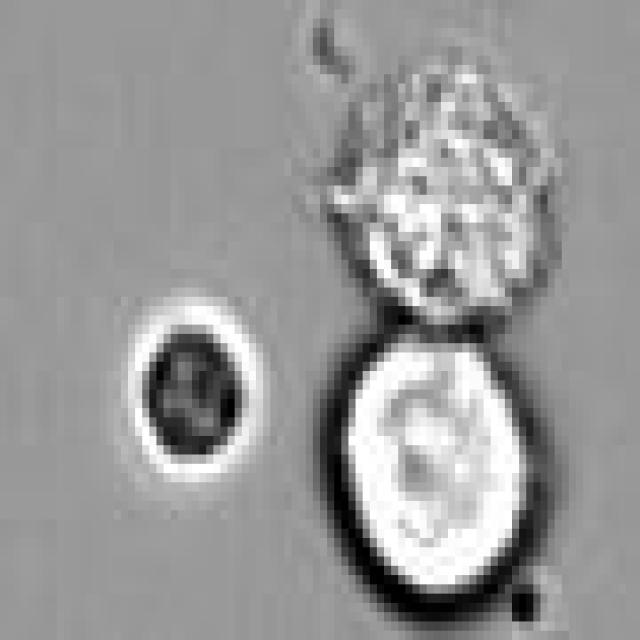Cancer Cell: (334, 315, 540, 594)
WBC: (341, 46, 562, 334), (142, 325, 249, 473)
